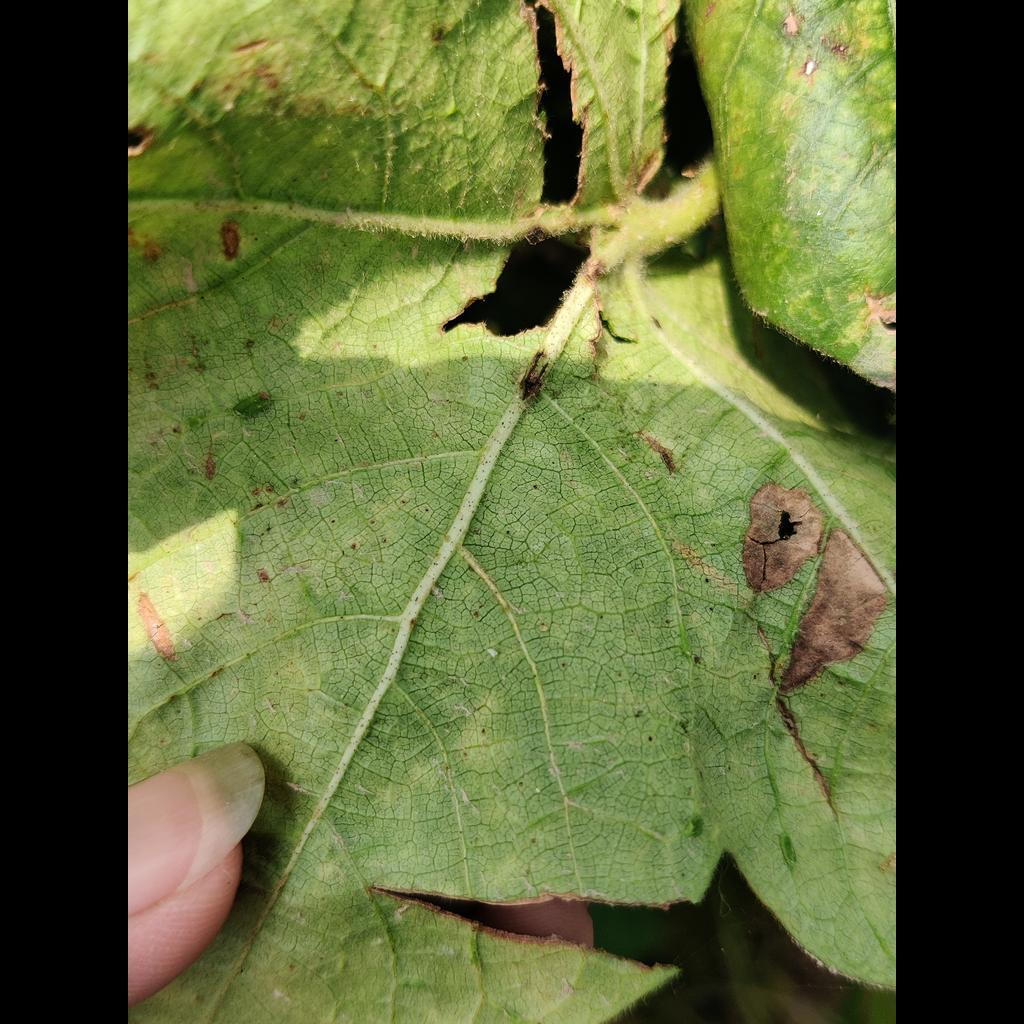nymph: (486, 646, 499, 659)
